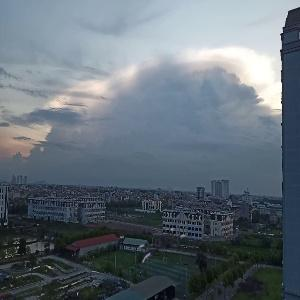drone: (138, 224, 189, 275)
